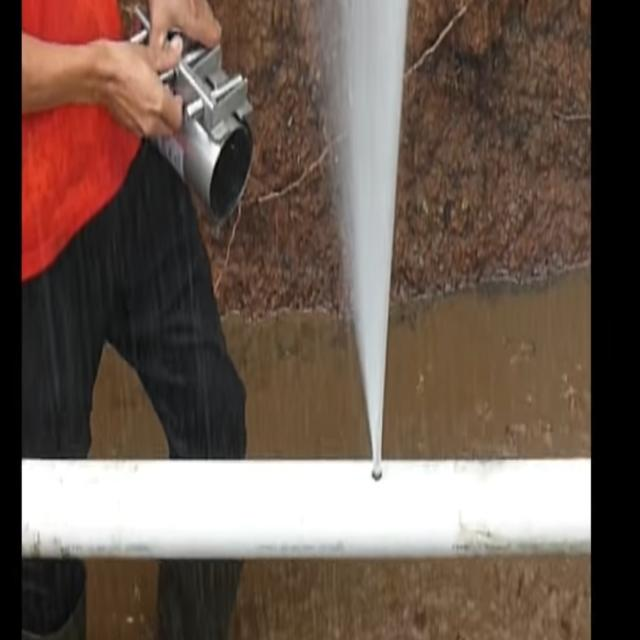leak: (320, 0, 408, 480)
